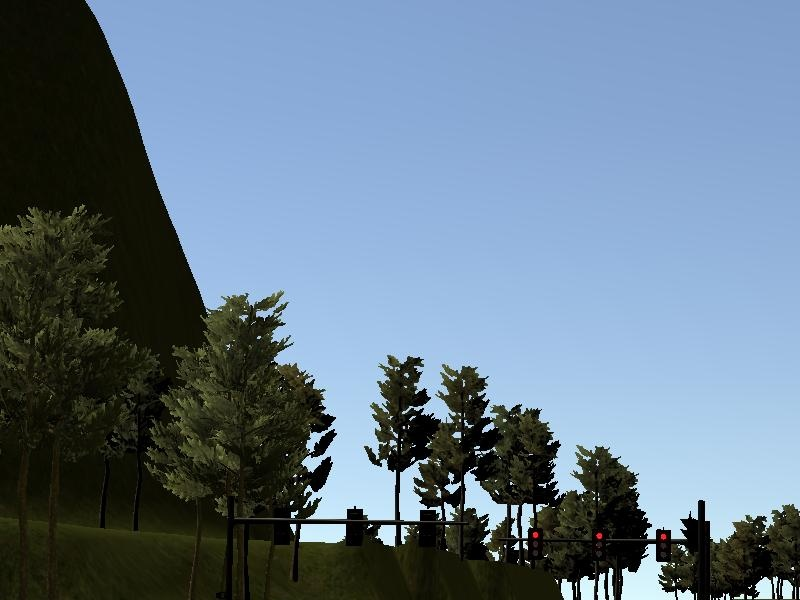RED: (654, 529, 670, 564), (591, 528, 607, 563), (528, 527, 543, 563)
